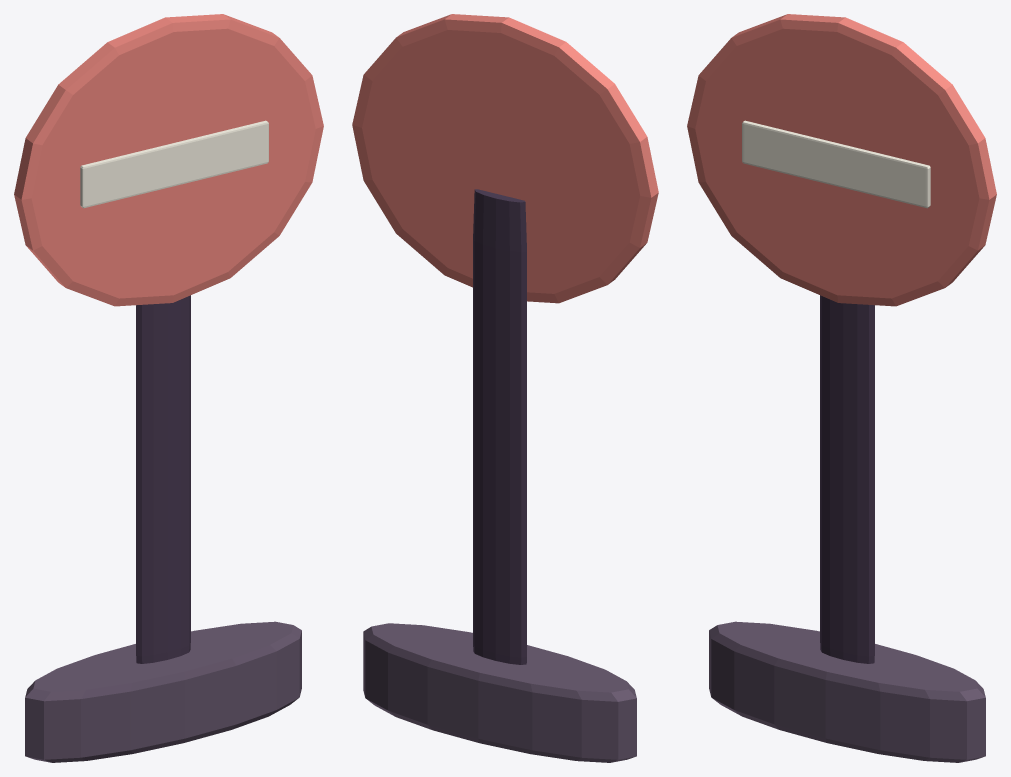
File: traffic_sign.glb
3 renders of one model, left to right at view 1: azimuth 30°, elevation 25°; view 2: azimuth 150°, elevation 25°; view 3: azimuth 330°, elevation 25°, orthographic.
Visible parts, largest first — view 1: model; view 2: model; view 3: model.
Boxes of the visible parts, x1,y1,x2,y2 form: model: [14, 14, 323, 762]; model: [352, 14, 658, 762]; model: [687, 14, 996, 762].
Size of the model in its own units: 0.6 by 1.35 by 0.15.
